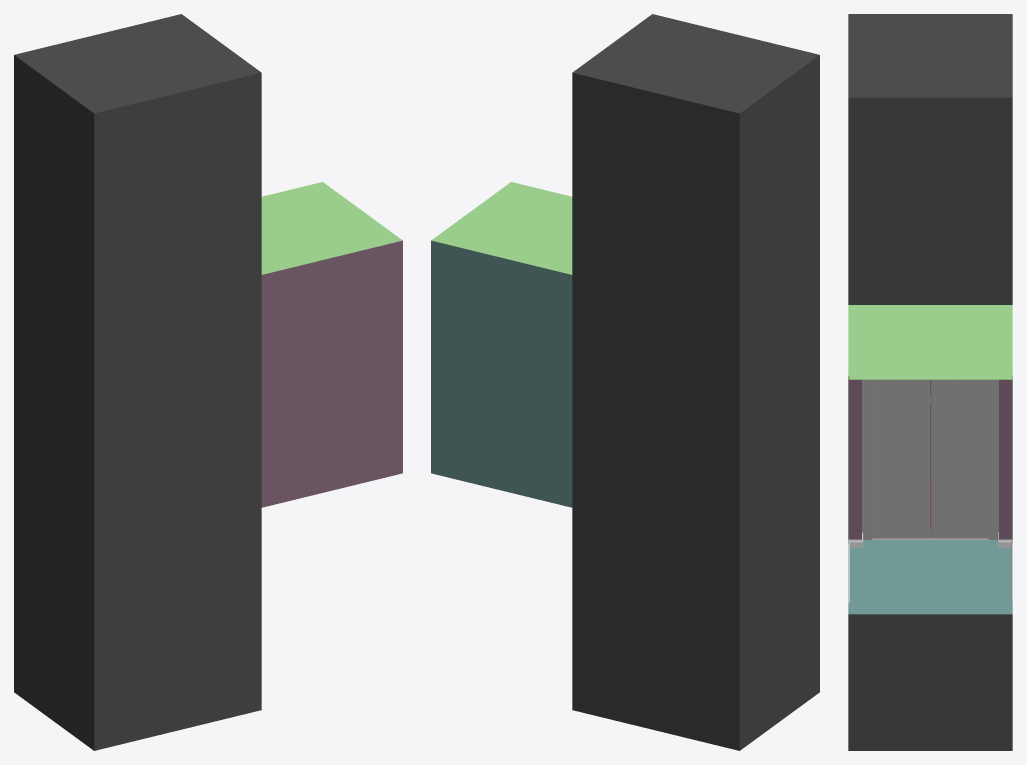
The model's file is Corridor_endpiece.fbx.
3 renders of one model, left to right at view 1: azimuth 30°, elevation 25°; view 2: azimuth 150°, elevation 25°; view 3: azimuth 270°, elevation 25°, orthographic. The views are drawn at different scales.
Visible parts, largest first — view 1: Corridor_endpiece_walls; view 2: Corridor_endpiece_walls; view 3: Corridor_endpiece_walls, Elevator_door_outer_L, Elevator_door_outer_R, Elevator_connector_out, Corridor_ceiling_end.
Boxes of the visible parts, left/top/right/bottom form: Corridor_endpiece_walls: left=14, top=14, right=402, bottom=750; Corridor_endpiece_walls: left=431, top=14, right=819, bottom=750; Corridor_endpiece_walls: left=848, top=14, right=1012, bottom=750; Elevator_door_outer_L: left=872, top=379, right=930, bottom=538; Elevator_door_outer_R: left=930, top=379, right=988, bottom=538; Elevator_connector_out: left=862, top=379, right=998, bottom=539; Corridor_ceiling_end: left=848, top=375, right=1012, bottom=379.
Bounding box in the file's own units: 4.3 × 8.49 × 1.94.
